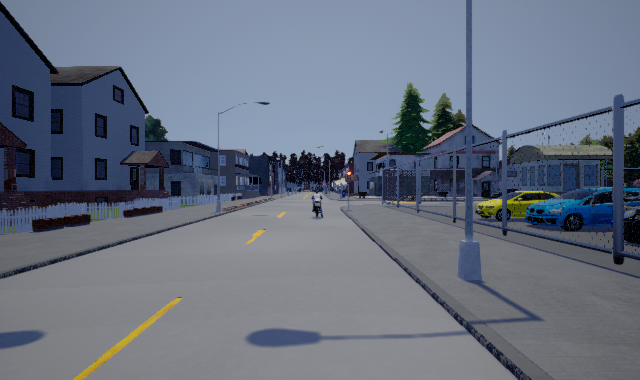motobike: (310, 191, 325, 218)
traffic_light: (347, 169, 351, 184)
vehicle: (507, 187, 613, 231), (475, 191, 562, 220), (624, 198, 640, 244)
